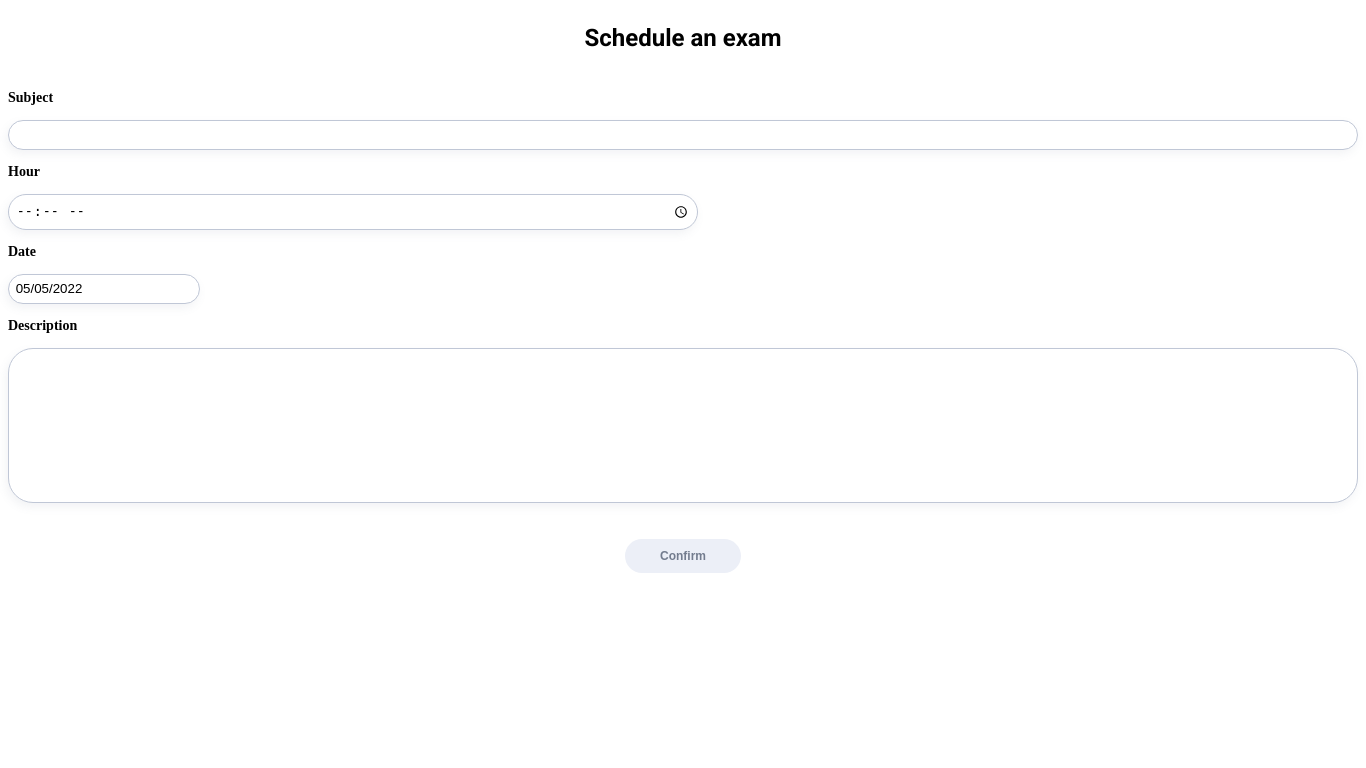
ClassForm › displays subject error
The image size is (1366, 768).
Click the button "Confirm" at (683, 556), box [625, 539, 741, 573]
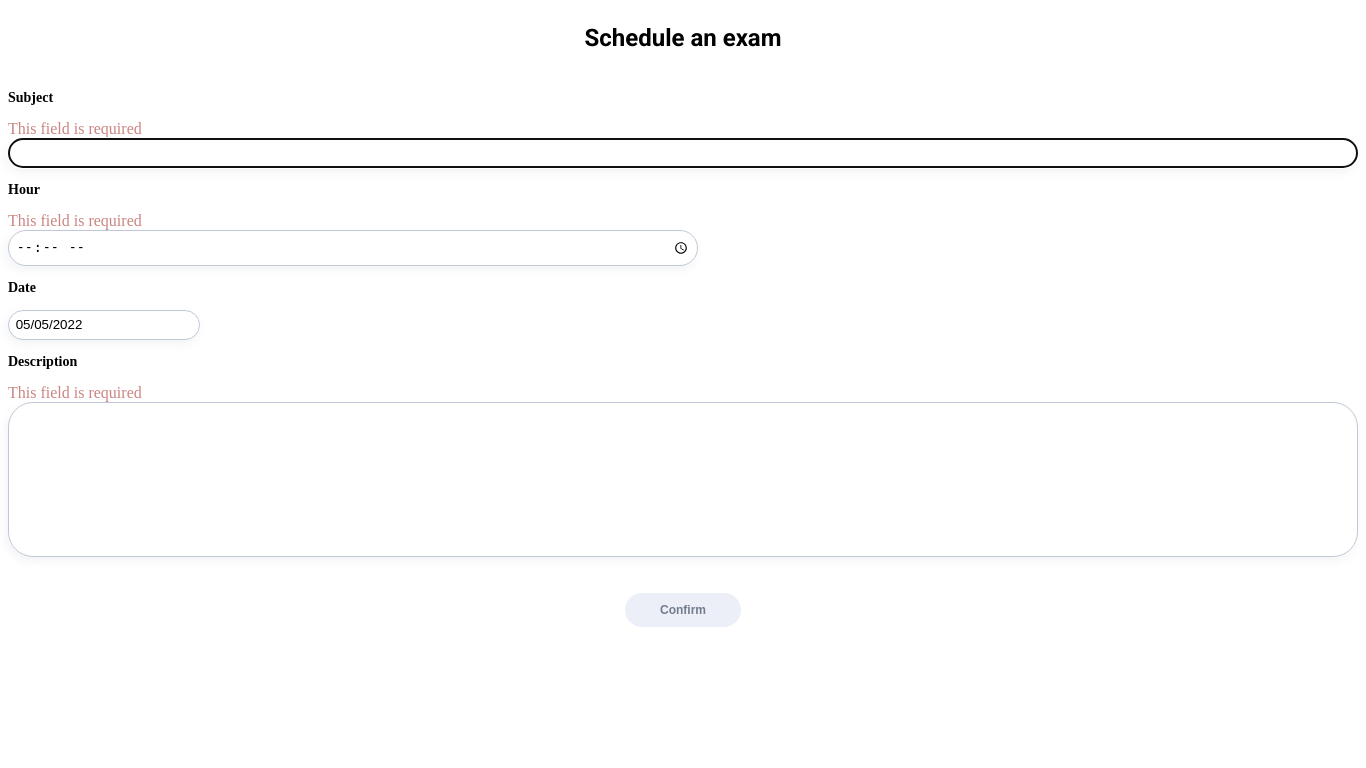
Expected: the text "This field is required" is shown 3 times, [8, 120, 142, 137]; [8, 212, 142, 229]; [8, 384, 142, 401]
Type "a" into the field labelled "Subject" at (683, 153), box [8, 138, 1358, 168]
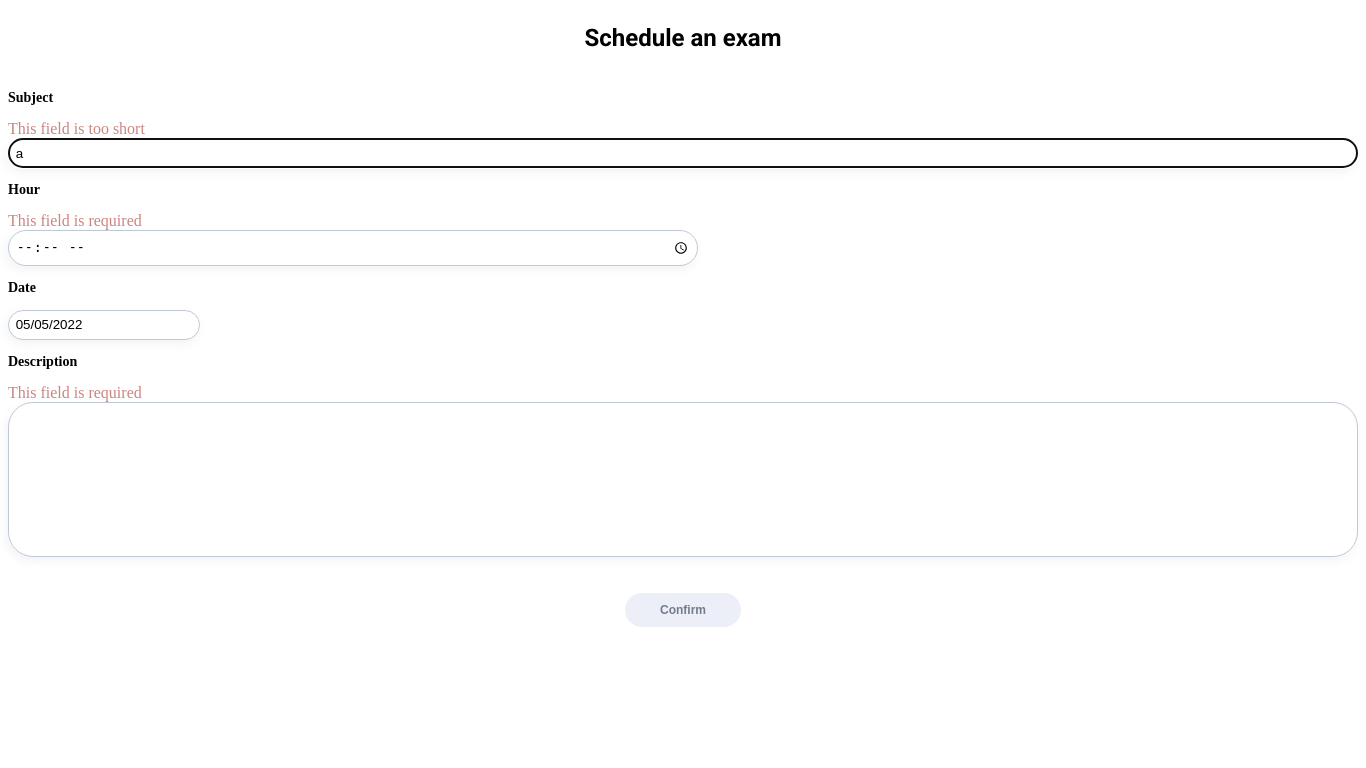
Expected: the text "This field is too short" is shown, [8, 120, 145, 137]
